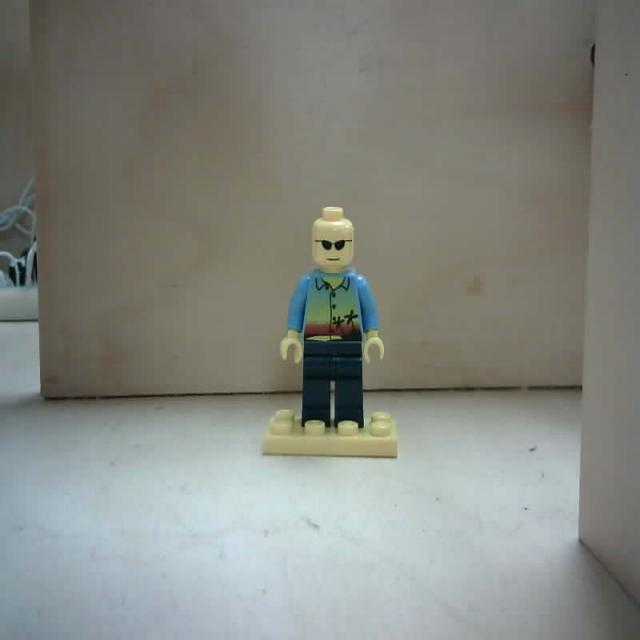Lego-People: (263, 205, 400, 468)
